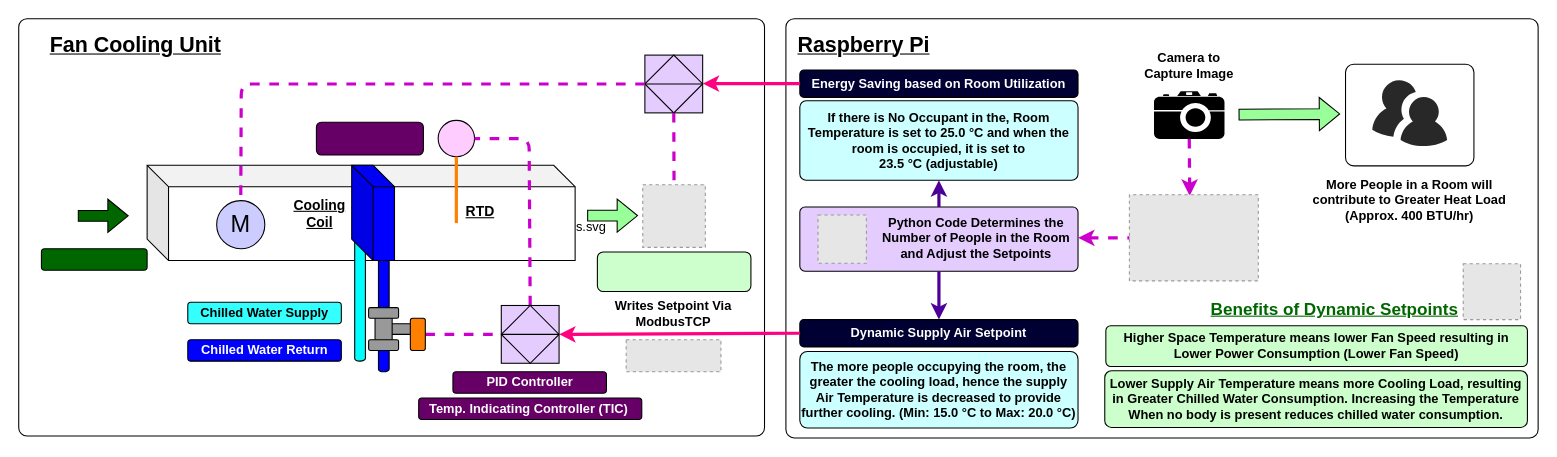
Some shapes in this 1557 by 457 pixel diagram are drawn without their labels. Grey dashed boxes stand in for pictures. The shapes that lost their labels are listed below. From the top down, each one's centre as x and y in pixels, then its label:
At [673,83]: "TIC 002".
At [369,138]: "Supply Air Temperature".
At [456,138]: "SA".
At [93,259]: "Return Air (RA)".
At [673,271]: "Space Temperature (Thermostat)".
At [529,333]: "TIC 001".
